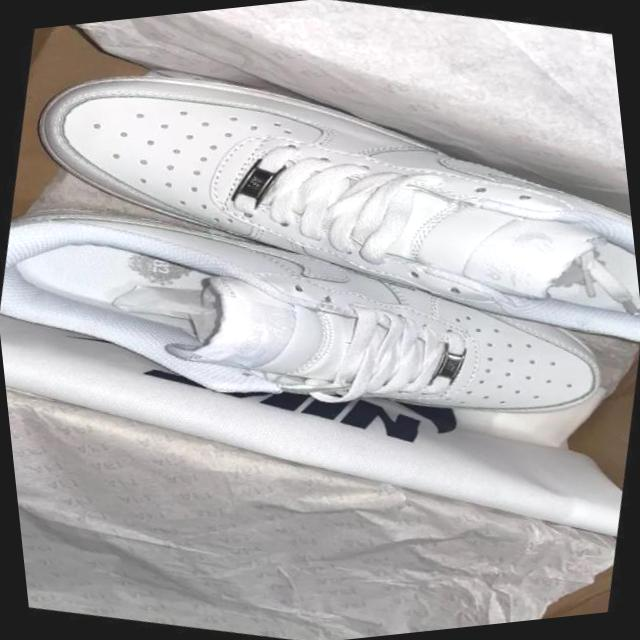nike_fake_airforce: (3, 0, 640, 409), (0, 143, 633, 499)
